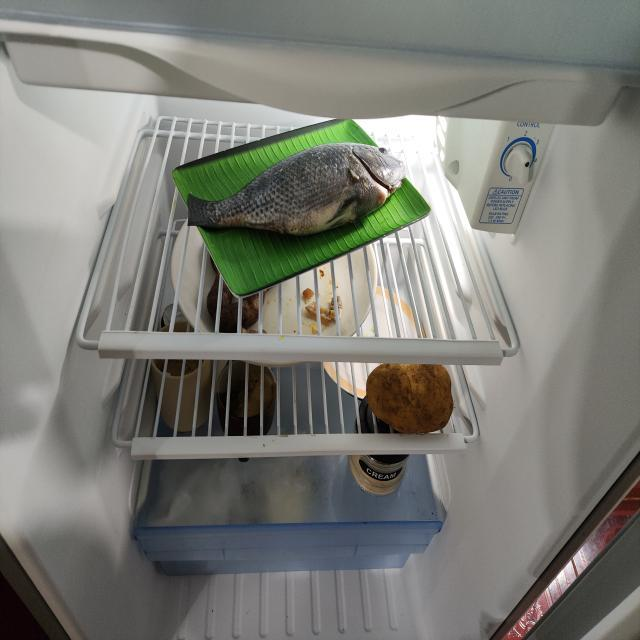fish: (186, 141, 407, 239)
potato: (364, 362, 453, 433)
